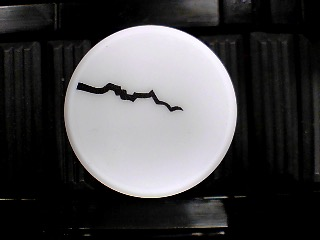CRACK: (63, 25, 238, 199)
